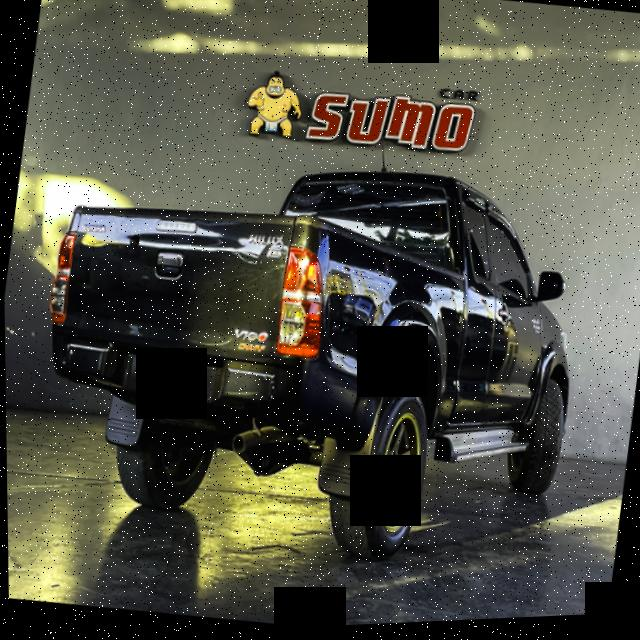text: (140, 363, 194, 405)
